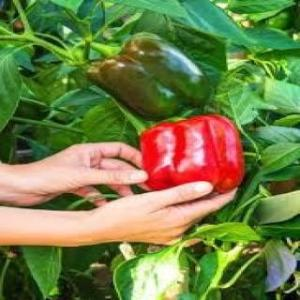bell_pepper: (73, 33, 213, 119), (139, 115, 245, 197)
